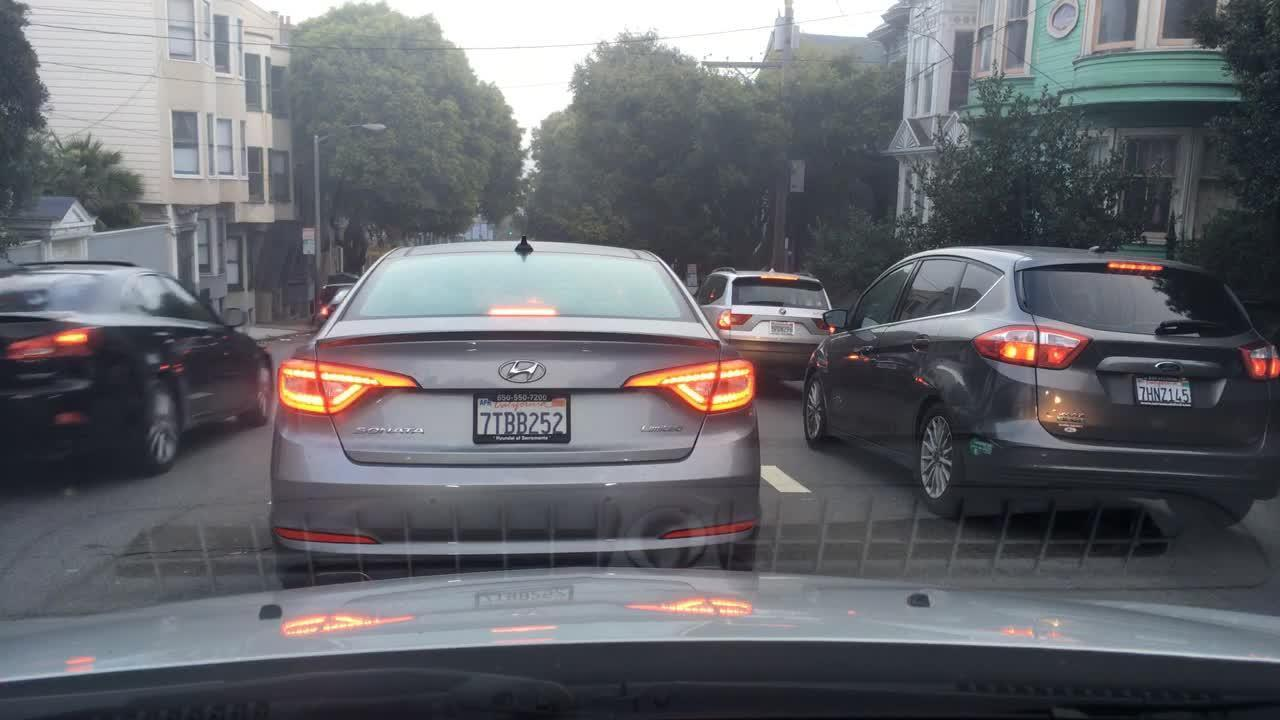Hyundai: (485, 348, 555, 396)
bmw: (777, 304, 789, 318)
ford: (1150, 356, 1184, 376)
